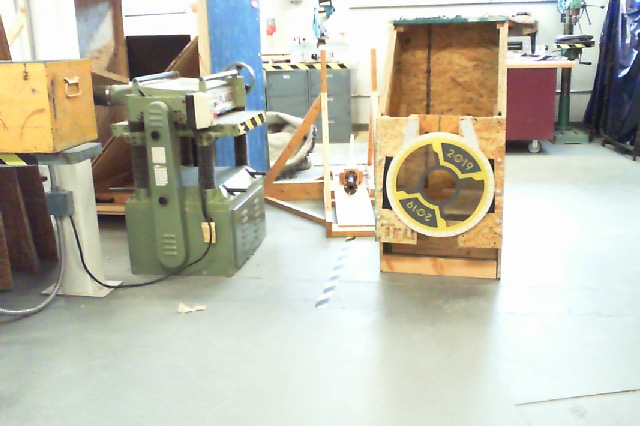Hatch: (385, 131, 494, 238)
Tape: (458, 117, 479, 148), (402, 116, 417, 146)
